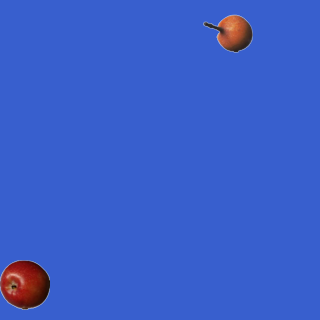Apple Braeburn: (0, 259, 49, 309)
Granadilla: (202, 8, 252, 58)
